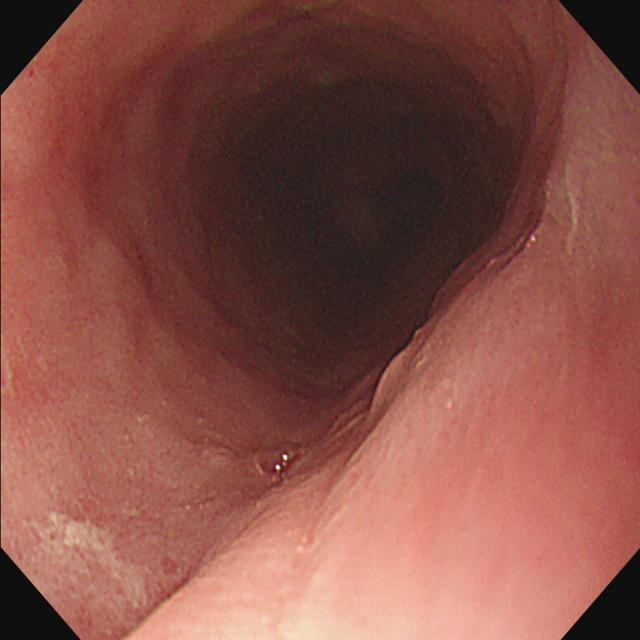E: (191, 54, 489, 373)
T: (253, 440, 311, 479)
